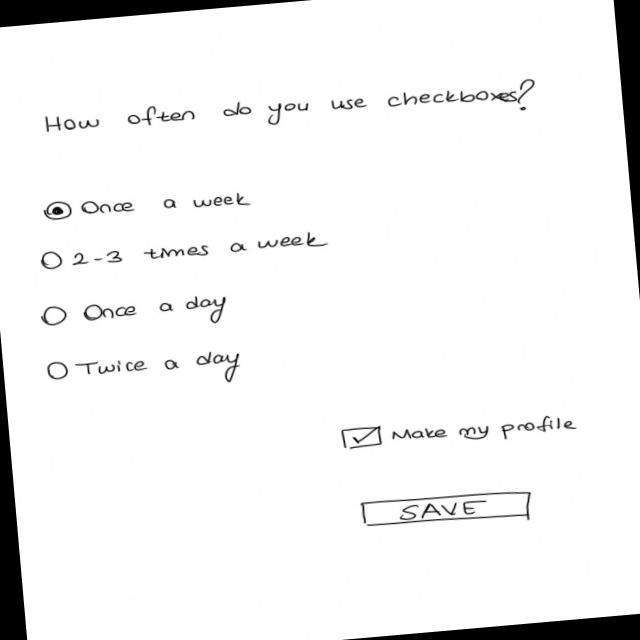button: (358, 485, 538, 532)
checkbox: (339, 407, 581, 457)
label: (42, 71, 541, 156)
radio: (40, 226, 331, 273), (44, 345, 244, 400), (40, 290, 230, 339), (43, 184, 254, 225)
